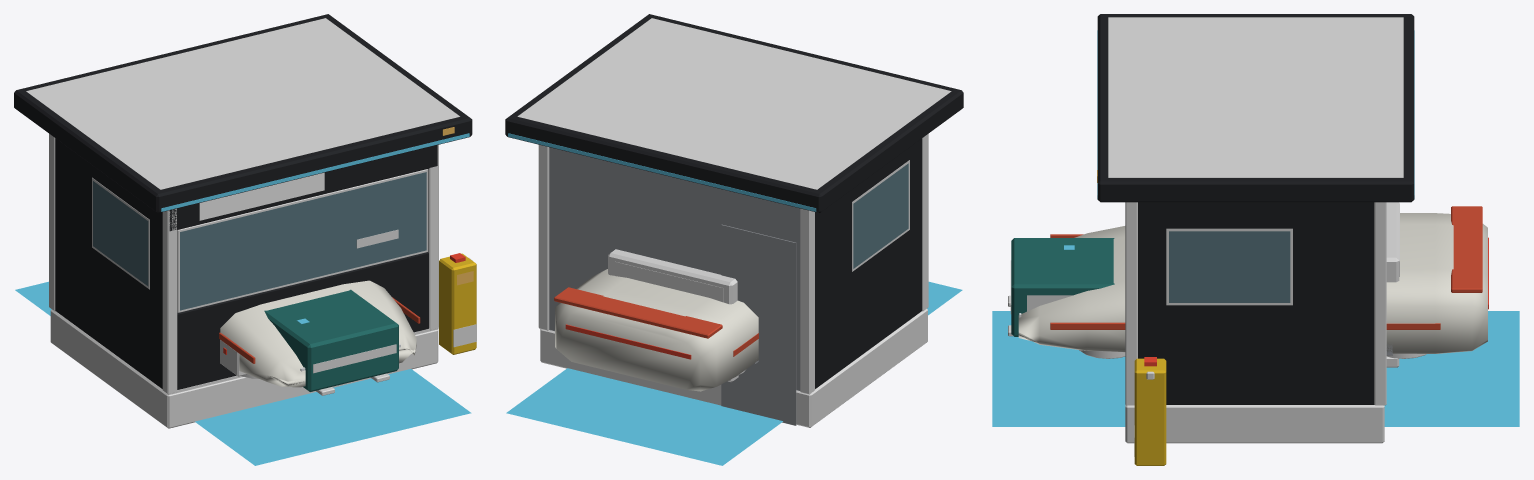
Rendered from cover.glb.
3 renders of one model, left to right at view 1: azimuth 30°, elevation 25°; view 2: azimuth 150°, elevation 25°; view 3: azimuth 270°, elevation 25°, orthographic. The views are drawn at different scales.
Visible parts, largest first — view 1: cover_checkpoint, cover_hover_car, cover_hover_forklift; view 2: cover_checkpoint, cover_hover_car, cover_hover_forklift; view 3: cover_checkpoint, cover_hover_car, cover_hover_forklift.
Part boxes in pixels (x1=…): cover_checkpoint: x1=14, y1=14, x2=476, y2=428; cover_hover_car: x1=15, y1=280, x2=471, y2=465; cover_hover_forklift: x1=264, y1=289, x2=398, y2=395; cover_checkpoint: x1=505, y1=14, x2=963, y2=427; cover_hover_car: x1=506, y1=269, x2=962, y2=465; cover_hover_forklift: x1=608, y1=249, x2=738, y2=382; cover_checkpoint: x1=1097, y1=14, x2=1414, y2=465; cover_hover_car: x1=992, y1=206, x2=1519, y2=426; cover_hover_forklift: x1=1008, y1=202, x2=1399, y2=367.
Bounding box in the file's own units: 4.06 × 2.86 × 5.
